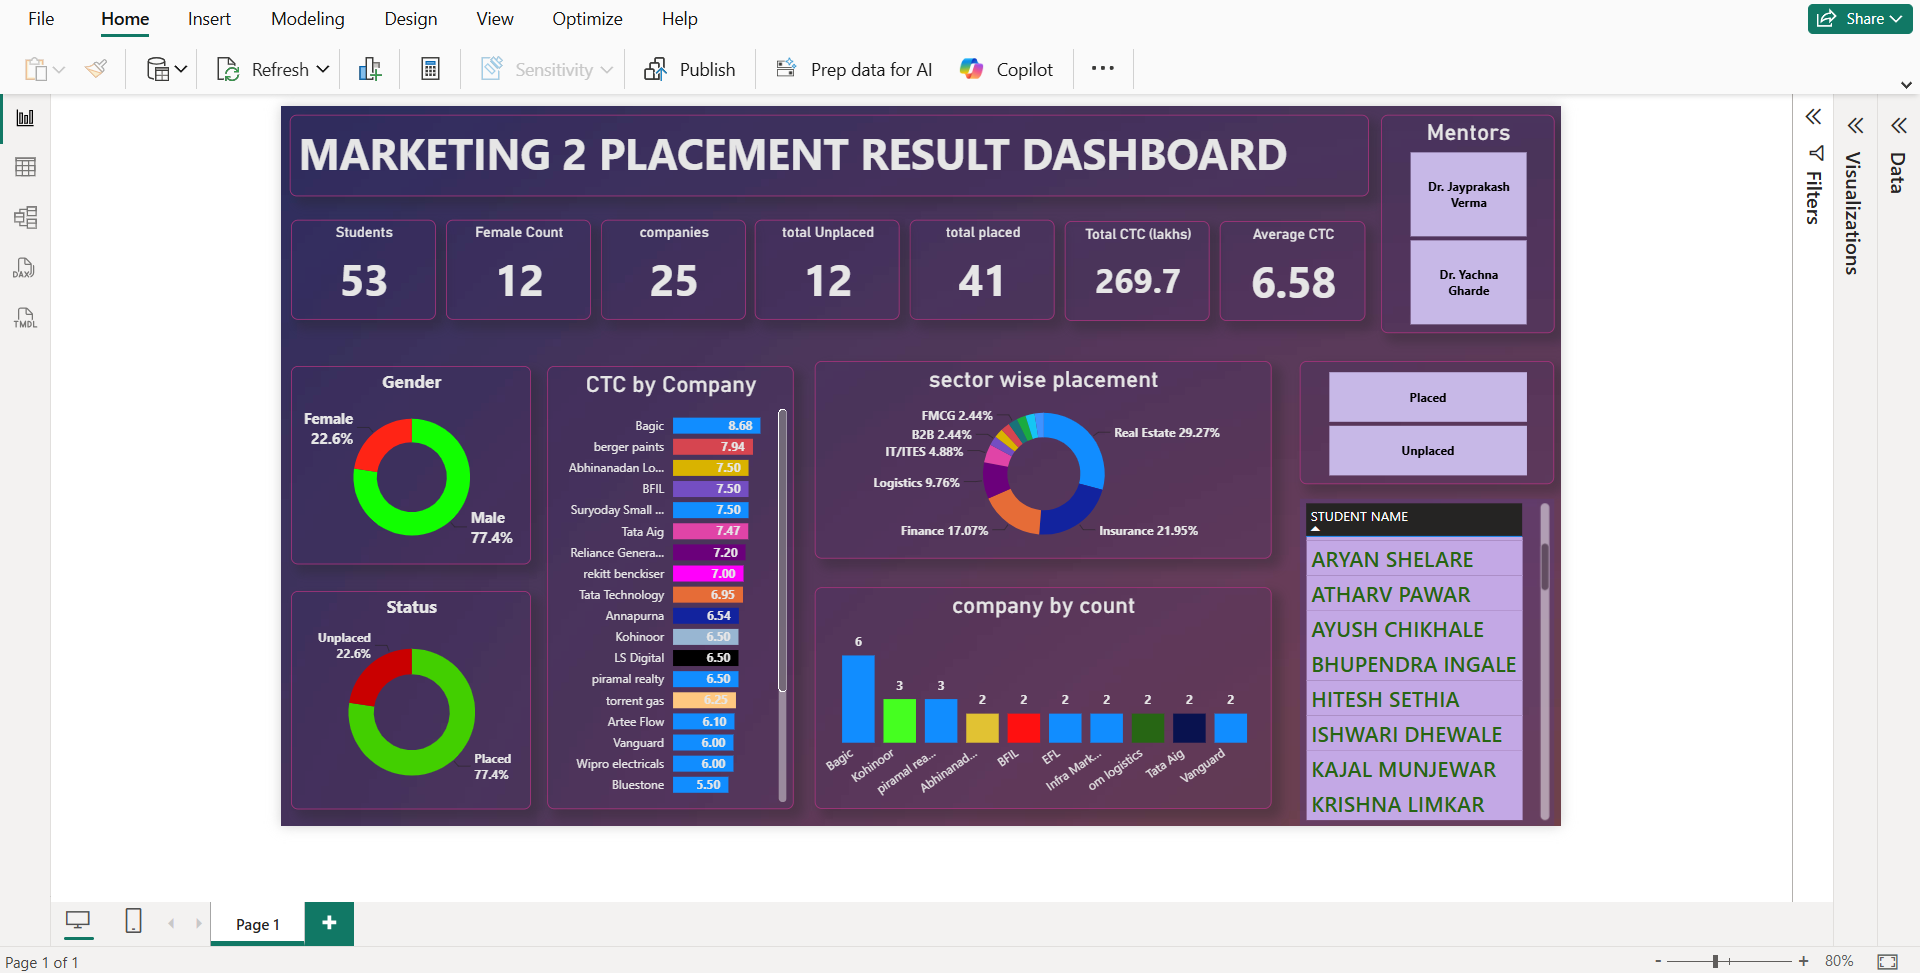

The dashboard page shown, as its layout file describes it:
{"tool":"powerbi","page":{"name":"Page 1","canvas":[1280,720],"ordinal":0},"visuals":[{"type":"textbox","box":[10,0,1080,81.7],"z":0},{"type":"card","title":"Students","fields":{"Values":["CountNonNull(MKT2.STUDENT NAME)"]},"box":[10,113.3,145,100],"z":1000},{"type":"card","title":"companies","fields":{"Values":["Count(MKT2.company)"]},"box":[319.4,113.3,145,100],"z":2000},{"type":"card","title":"total placed","fields":{"Values":["CountNonNull(MKT2.STUDENT NAME)"]},"box":[628.9,113.8,145,100],"z":3000},{"type":"card","title":"Female Count","fields":{"Values":["CountNonNull(MKT2.GENDER)"]},"box":[164.7,113.4,145,100],"z":4000},{"type":"donutChart","title":"Gender","fields":{"Category":["MKT2.GENDER"],"Y":["CountNonNull(MKT2.STUDENT NAME)"]},"box":[10,260,240,198.3],"z":5000},{"type":"donutChart","title":"Status","fields":{"Y":["CountNonNull(MKT2.STUDENT NAME)"],"Category":["MKT2.plcementStatus"]},"box":[10,485,240,218.3],"z":6000},{"type":"barChart","title":"CTC by Company","fields":{"Category":["MKT2.company"],"Y":["Avg(MKT2.CTC)"]},"box":[266.7,260,246.7,443.3],"z":7000},{"type":"slicer","fields":{"Values":["MKT2.Mentor"]},"box":[1099.9,0,179.7,227.9],"z":8000},{"type":"donutChart","title":"sector wise placement","fields":{"Category":["Company List.Sector"],"Y":["CountNonNull(MKT2.STUDENT NAME)"]},"box":[533.3,255,456.6,197.4],"z":9000},{"type":"slicer","fields":{"Values":["MKT2.plcementStatus"]},"box":[1011.7,255,268.3,123.3],"z":10000},{"type":"tableEx","fields":{"Values":["MKT2.STUDENT NAME"]},"box":[1025.1,360.6,254.5,326.8],"z":11000},{"type":"card","title":"Total CTC (lakhs)","fields":{"Values":["Sum(MKT2.CTC)"]},"box":[783.6,115.2,145,100],"z":12000},{"type":"columnChart","title":"company by count","fields":{"Category":["MKT2.company"],"Y":["CountNonNull(MKT2.STUDENT NAME)"]},"box":[533.3,481.7,456.7,221.7],"z":13000},{"type":"card","title":"total Unplaced","fields":{"Values":["CountNonNull(MKT2.STUDENT NAME)"]},"box":[474.1,113.3,145,100],"z":14000},{"type":"card","title":"Average CTC","fields":{"Values":["Avg(MKT2.CTC)"]},"box":[938.3,114.6,145.9,100.1],"z":15000}]}

Visuals, with their boxes on the page's 1280x720 design canvas (x1, y1, x2, y2). These are canvas units, not pixel positions in the 1920x973 screenshot, which may show the page scaled, cropped or inside an application window:
textbox: <box>10,0,1090,82</box>
"Students" card: <box>10,113,155,213</box>
"companies" card: <box>319,113,464,213</box>
"total placed" card: <box>629,114,774,214</box>
"Female Count" card: <box>165,113,310,213</box>
"Gender" donutChart: <box>10,260,250,458</box>
"Status" donutChart: <box>10,485,250,703</box>
"CTC by Company" barChart: <box>267,260,513,703</box>
slicer - MKT2.Mentor: <box>1100,0,1280,228</box>
"sector wise placement" donutChart: <box>533,255,990,452</box>
slicer - MKT2.plcementStatus: <box>1012,255,1280,378</box>
tableEx - MKT2.STUDENT NAME: <box>1025,361,1280,687</box>
"Total CTC (lakhs)" card: <box>784,115,929,215</box>
"company by count" columnChart: <box>533,482,990,703</box>
"total Unplaced" card: <box>474,113,619,213</box>
"Average CTC" card: <box>938,115,1084,215</box>
